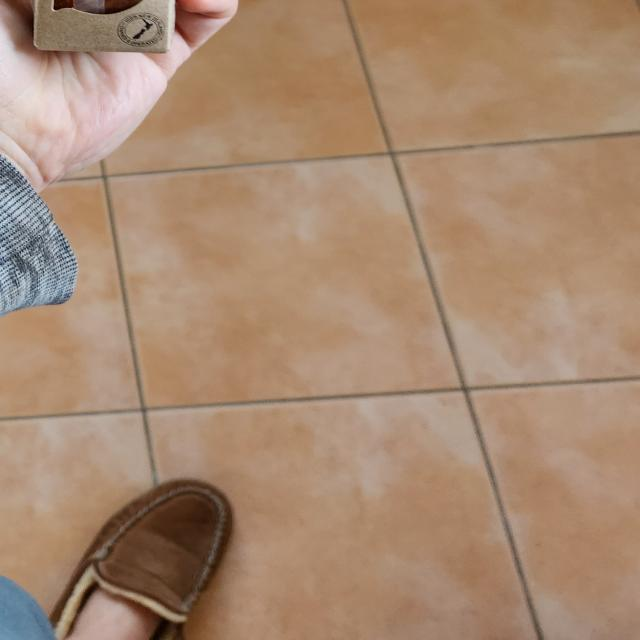cayenne pepper: (32, 0, 185, 54)
